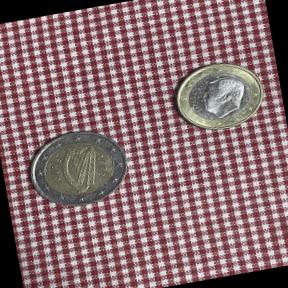coin: (16, 118, 138, 219), (163, 52, 274, 144)
